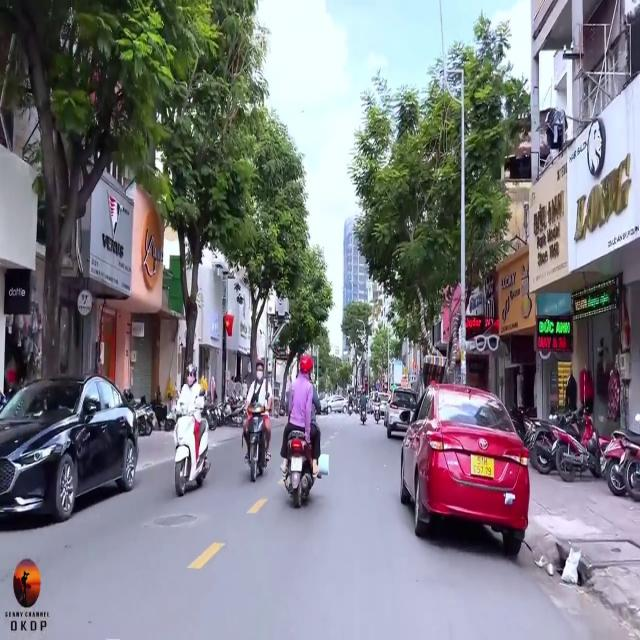bien_vang: (471, 453, 496, 483)
